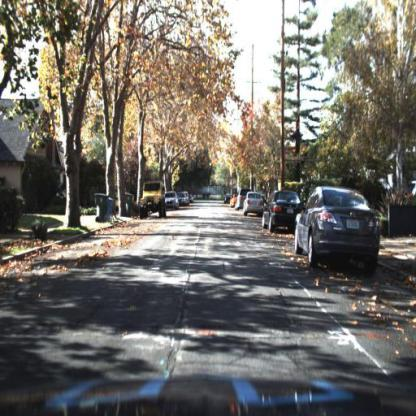car: (293, 174, 385, 270), (257, 186, 300, 233), (138, 178, 168, 218), (242, 190, 264, 219), (236, 186, 247, 210), (235, 189, 246, 211), (166, 189, 178, 209), (228, 186, 237, 208), (178, 190, 188, 206), (178, 191, 186, 210)
